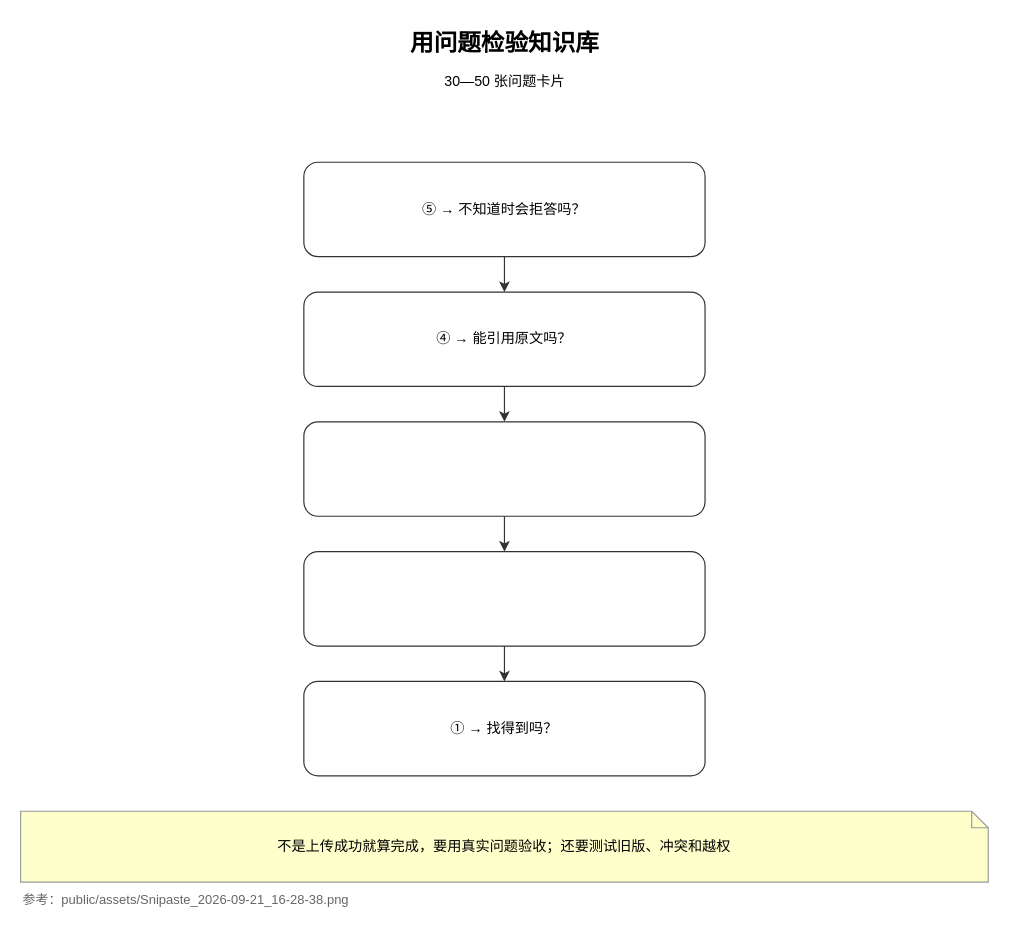
Some shapes in this 1009 by 930 pixel diagram are drawn without their labels. The shapes that lost their labels are listed below. From the top down, each one's centre as x and y in pixels, then its label:
(x=504, y=468): ③ → 回答对吗？
(x=504, y=598): ② → 找得准吗？
